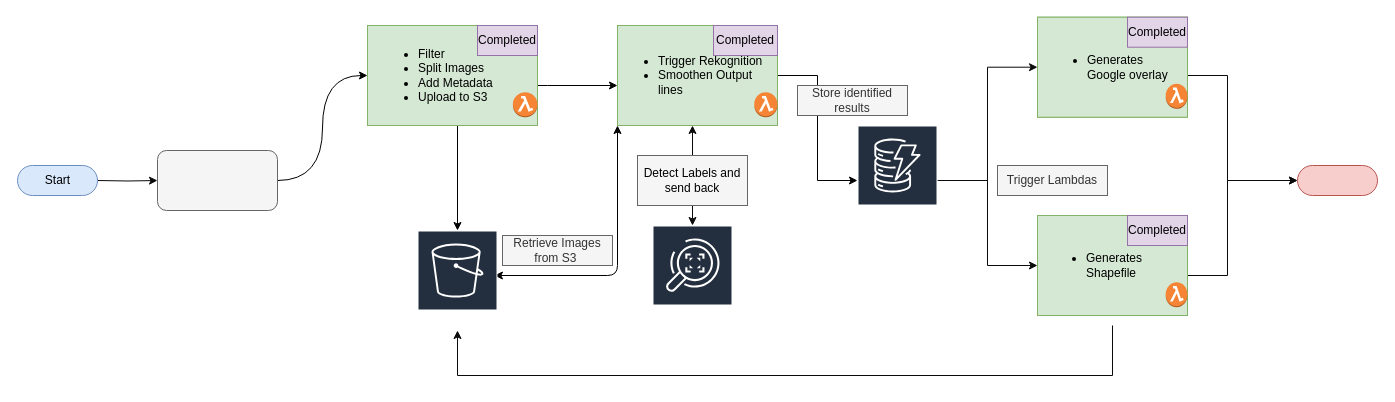
This 1395x402 diagram has some shape labels left out. The shapes that lost their labels are listed below. From the top down, each one's centre as x and y in pixels, then its label:
At point (217, 180): "User specifies data locations".
At point (897, 180): "Amazon DynamoDB".
At point (1337, 180): "End".
At point (457, 280): "Amazon S3".
At point (692, 280): "Amazon Rekognition".
